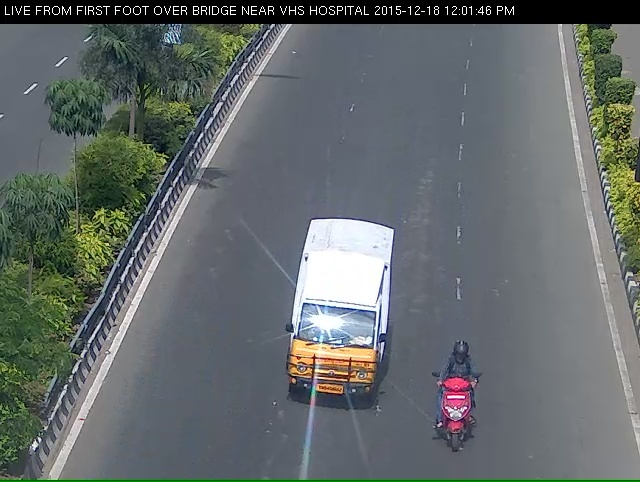Auto: (285, 215, 387, 428)
Person: (421, 375, 478, 477)
